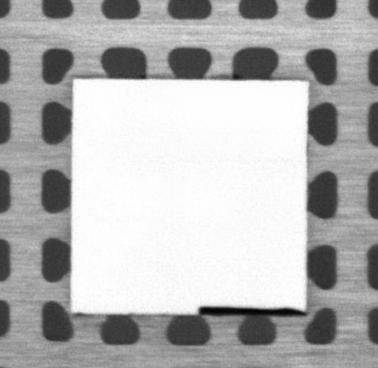DIE_BROKEN: (197, 304, 306, 316)
